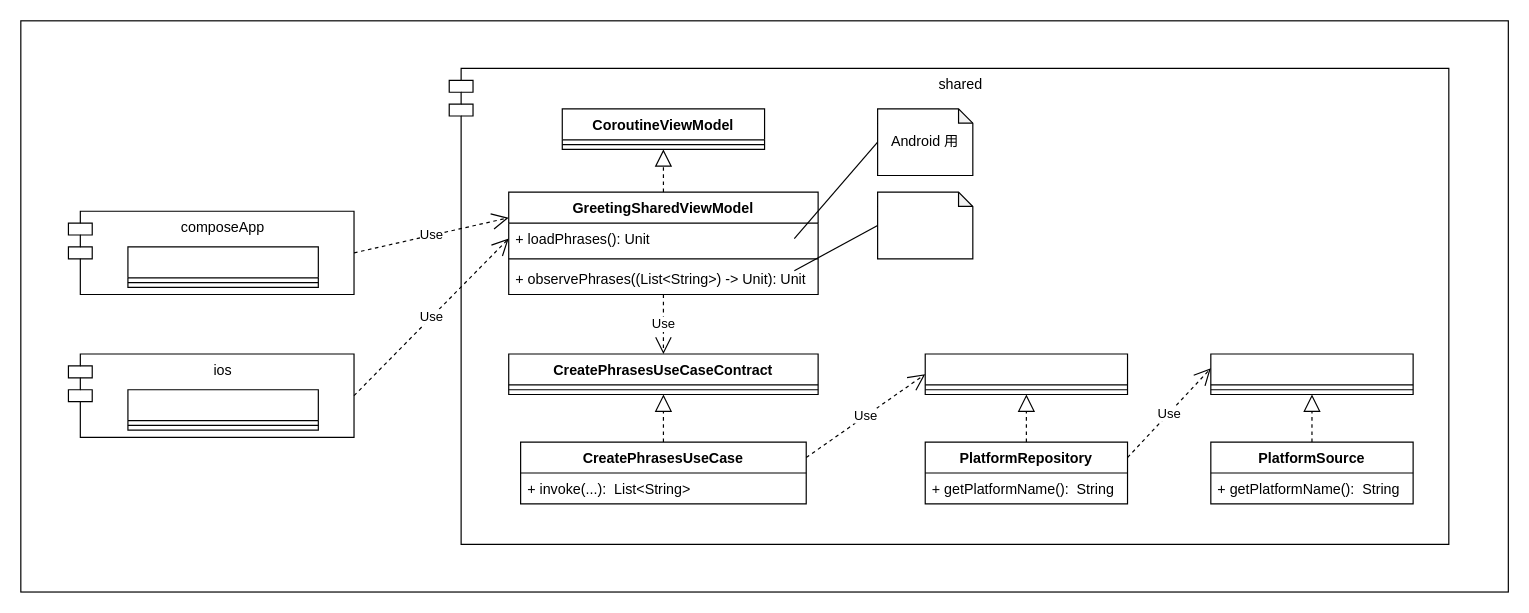
Image size: 1529x613. Some labels were removed from this diagram. The centre of each missing label's shape, as x and y in pixels:
GreetingScreen: [222,266]
iOS 用: [924,225]
PlatformRepositoryContract: [1026,373]
PlatformSourceContract: [1311,373]
ViewModel.ContentView: [222,409]
